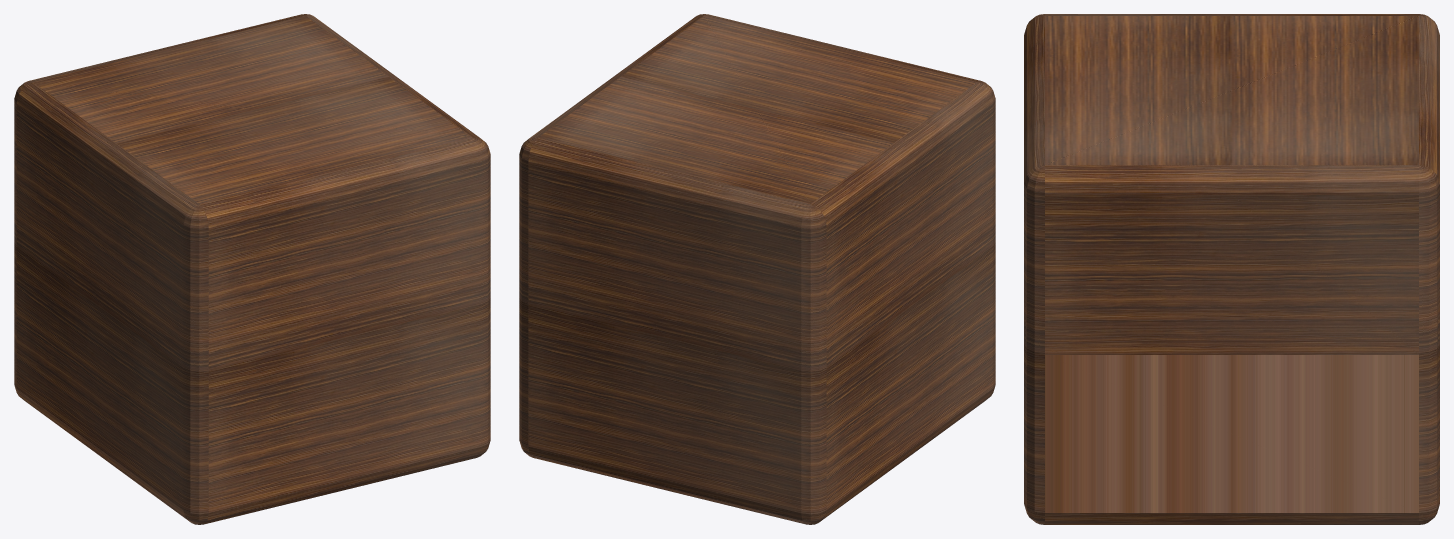
The model's file is Cubby.fbx.
3 views of the same model, side by side, from view 1: azimuth 30°, elevation 25°; view 2: azimuth 150°, elevation 25°; view 3: azimuth 270°, elevation 25° (orthographic). The views are drawn at different scales.
Visible parts, largest first — view 1: Cube; view 2: Cube; view 3: Cube.
Part boxes in pixels (<box>): Cube: <box>14,14,490,524</box>; Cube: <box>519,14,995,524</box>; Cube: <box>1024,14,1439,524</box>.
Size of the model in its own units: 95 by 95 by 100.
1 material, 1 textured.
